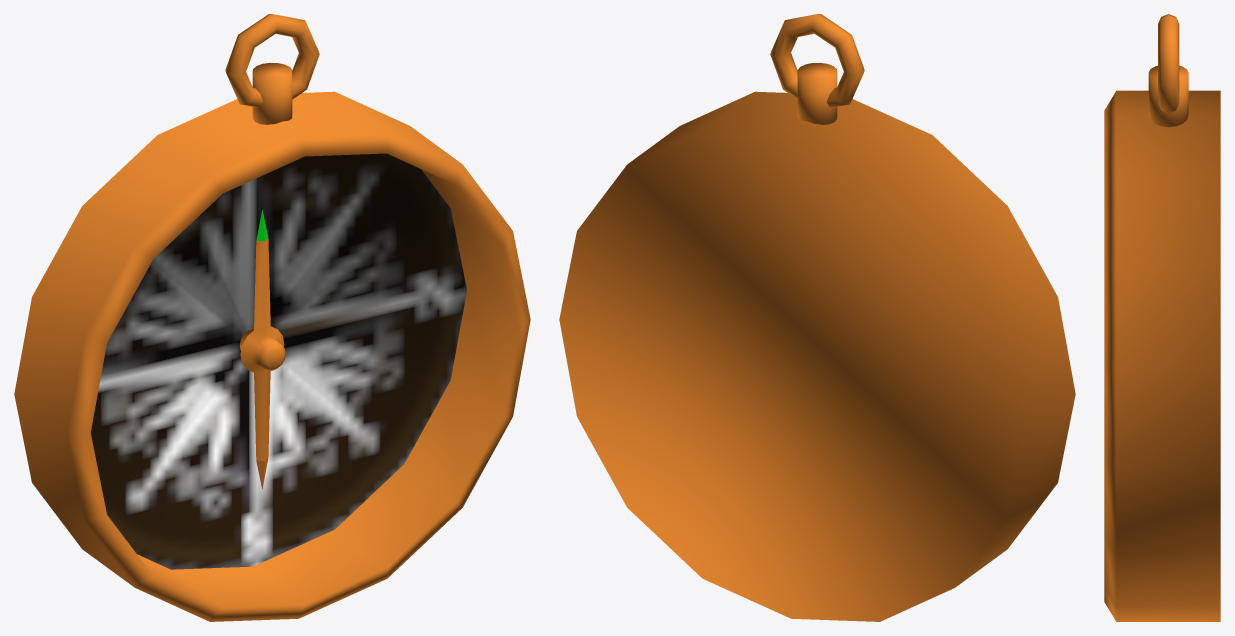
Rendered from ab042ccd-e13f-474a-9919-cd162fc04c86.glb.
3 renders of one model, left to right at view 1: azimuth 30°, elevation 25°; view 2: azimuth 150°, elevation 25°; view 3: azimuth 270°, elevation 25°, orthographic.
Visible parts, largest first — view 1: Compass; view 2: Compass; view 3: Compass.
Part boxes in pixels (x1=…): Compass: x1=14, y1=14, x2=530, y2=621; Compass: x1=559, y1=14, x2=1075, y2=621; Compass: x1=1104, y1=14, x2=1220, y2=621.
Size of the model in its own units: 0.122 by 0.1472 by 0.0268.
Materials: 2 (2 with a texture image).
